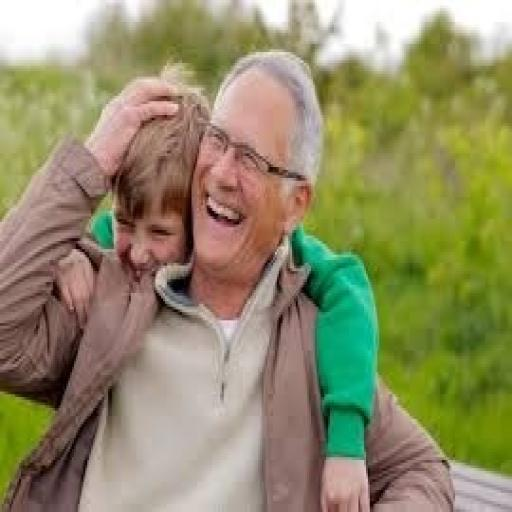laughing: (0, 41, 457, 509)
